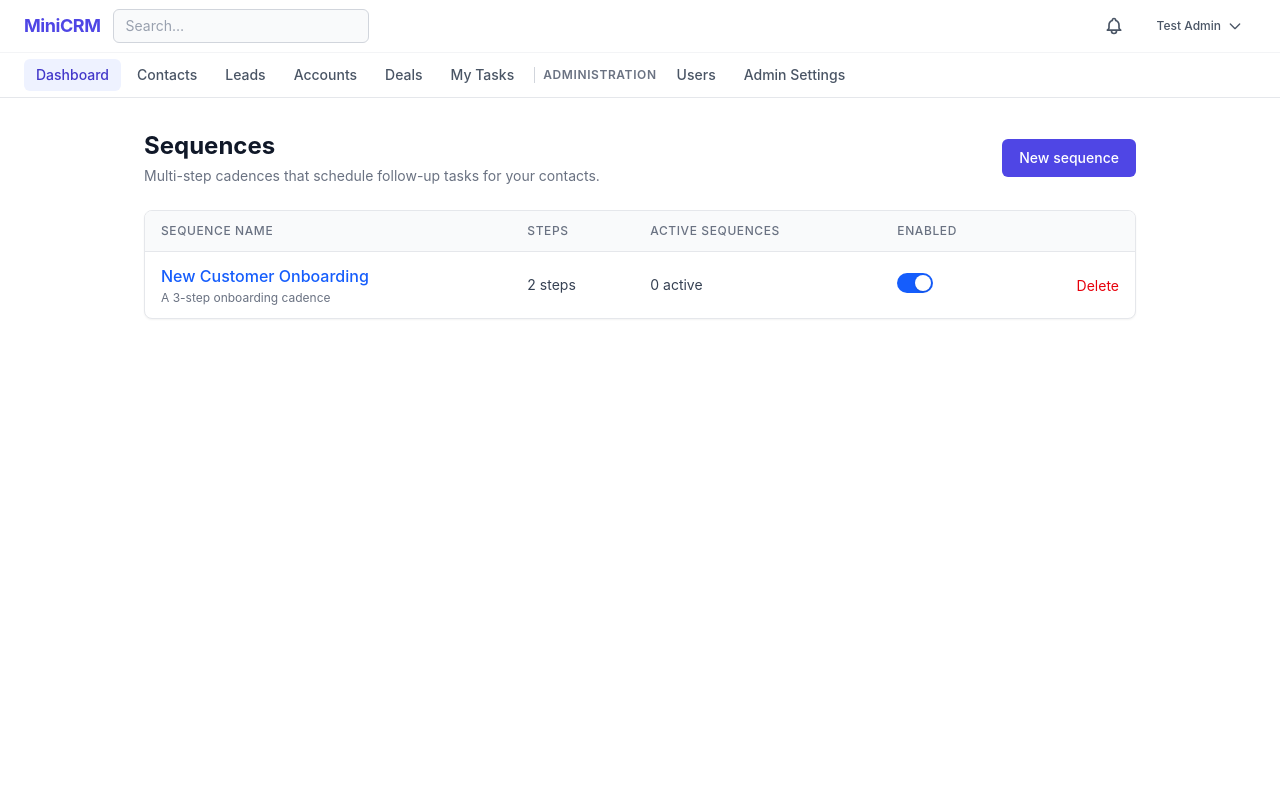
SequencesPage › hides the create form when Cancel is clicked
The width and height of the screenshot is (1280, 800).
Click the button with test id "new-sequence-button": point(1069, 158) [1002,139,1136,177]
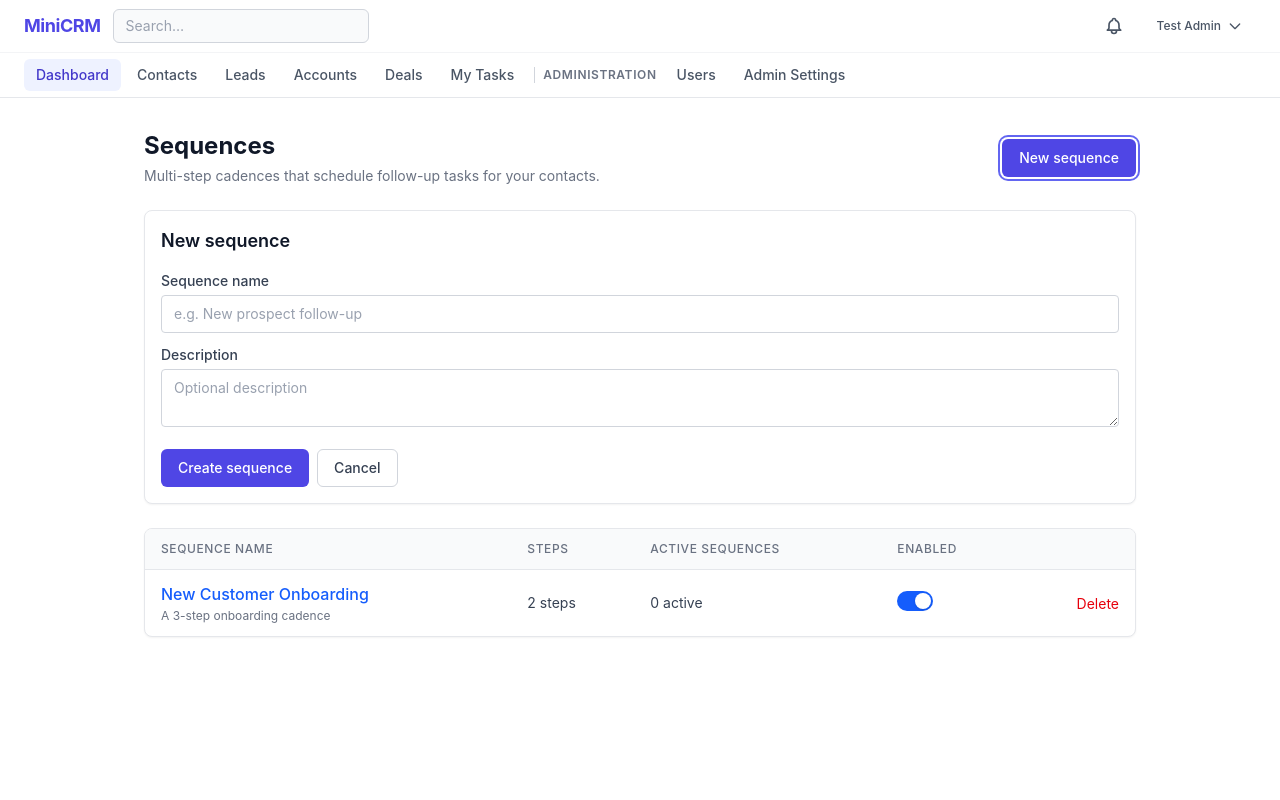
expect the form with test id "create-sequence-form" is shown: met, box [144,210,1136,504]
Find and click Cancel button within the form
Click the button "Cancel": point(357, 468) [317,449,398,487]
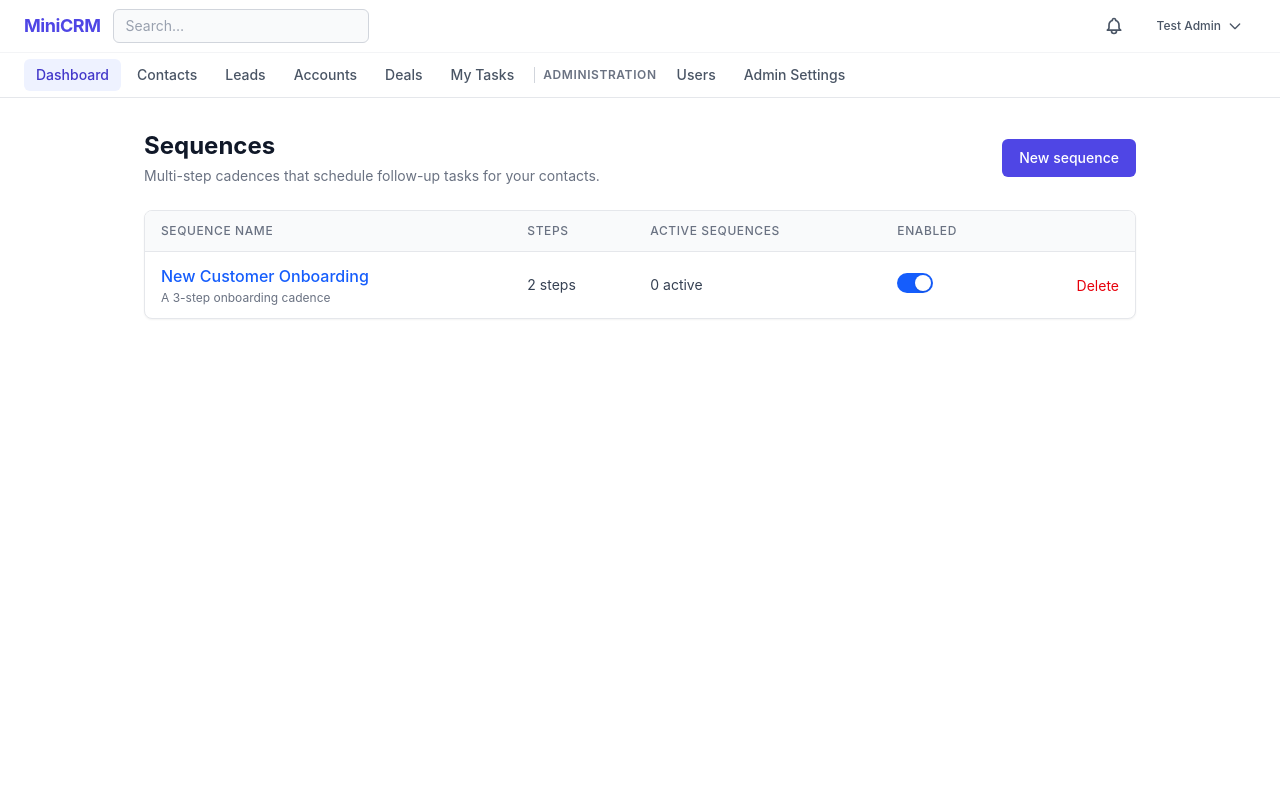
expect the form with test id "create-sequence-form" is gone: met
